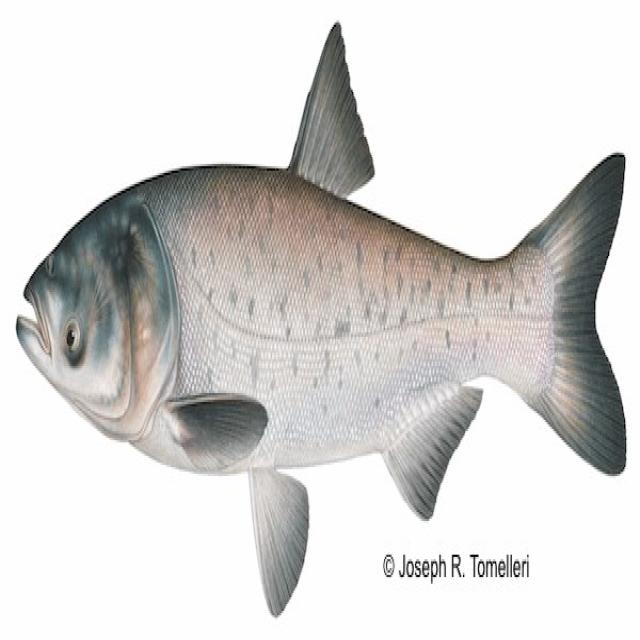Big-Head-Carp: (6, 7, 638, 550)
